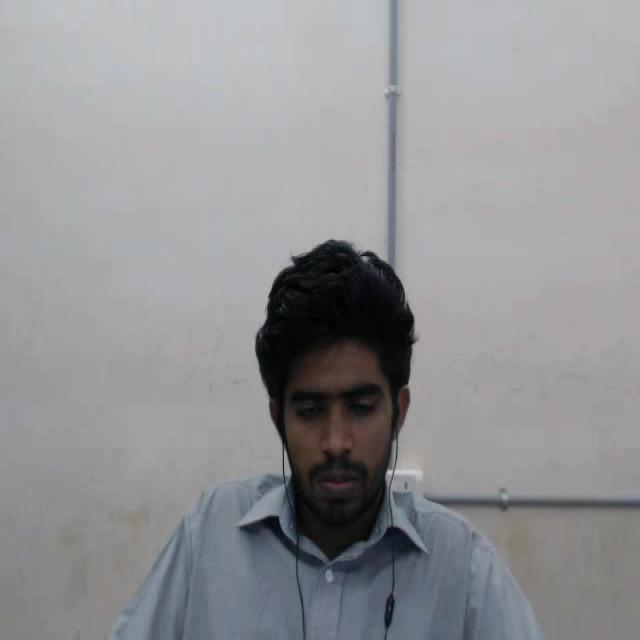Bored: (236, 204, 457, 600)
